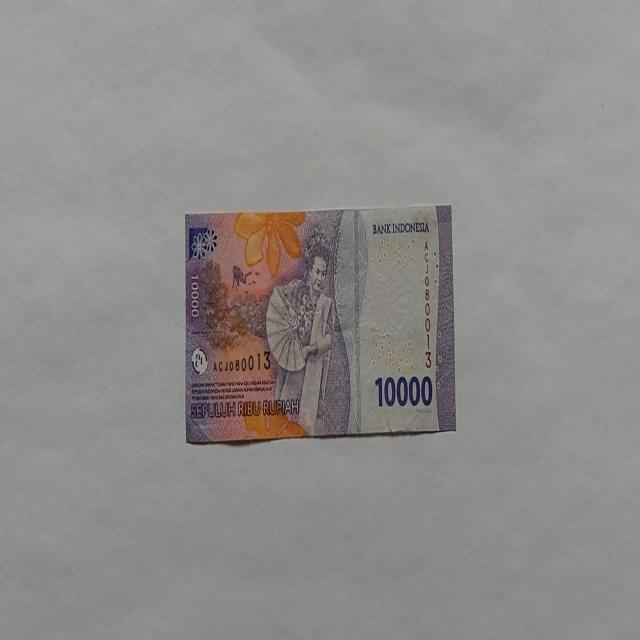sepuluh ribu rupiah: (184, 203, 456, 444)
